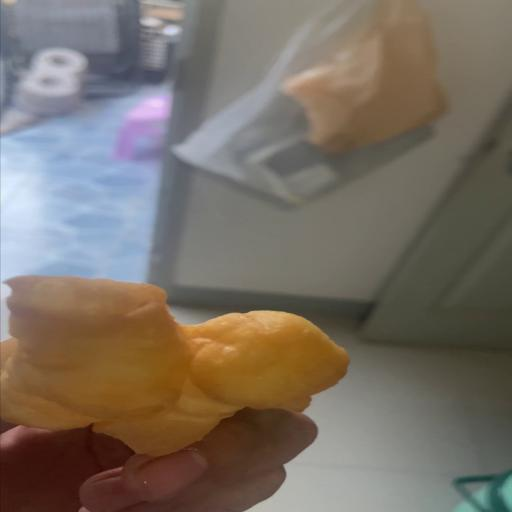street_golden_good: (0, 276, 347, 456)
